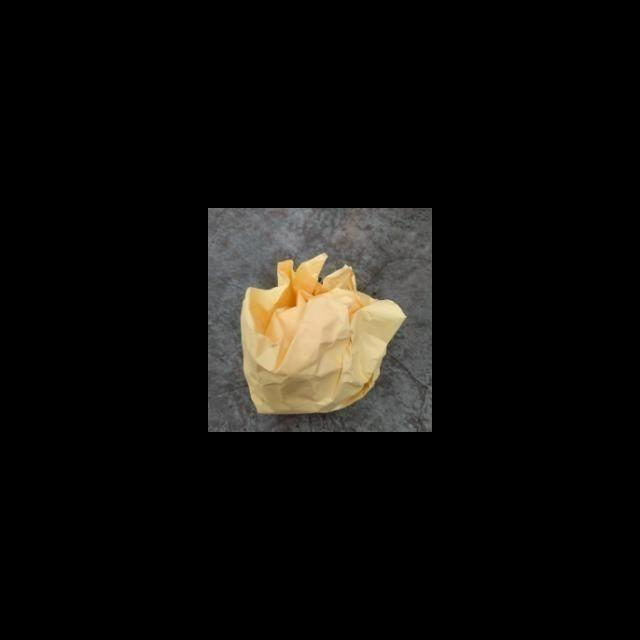paper: (232, 252, 413, 423)
